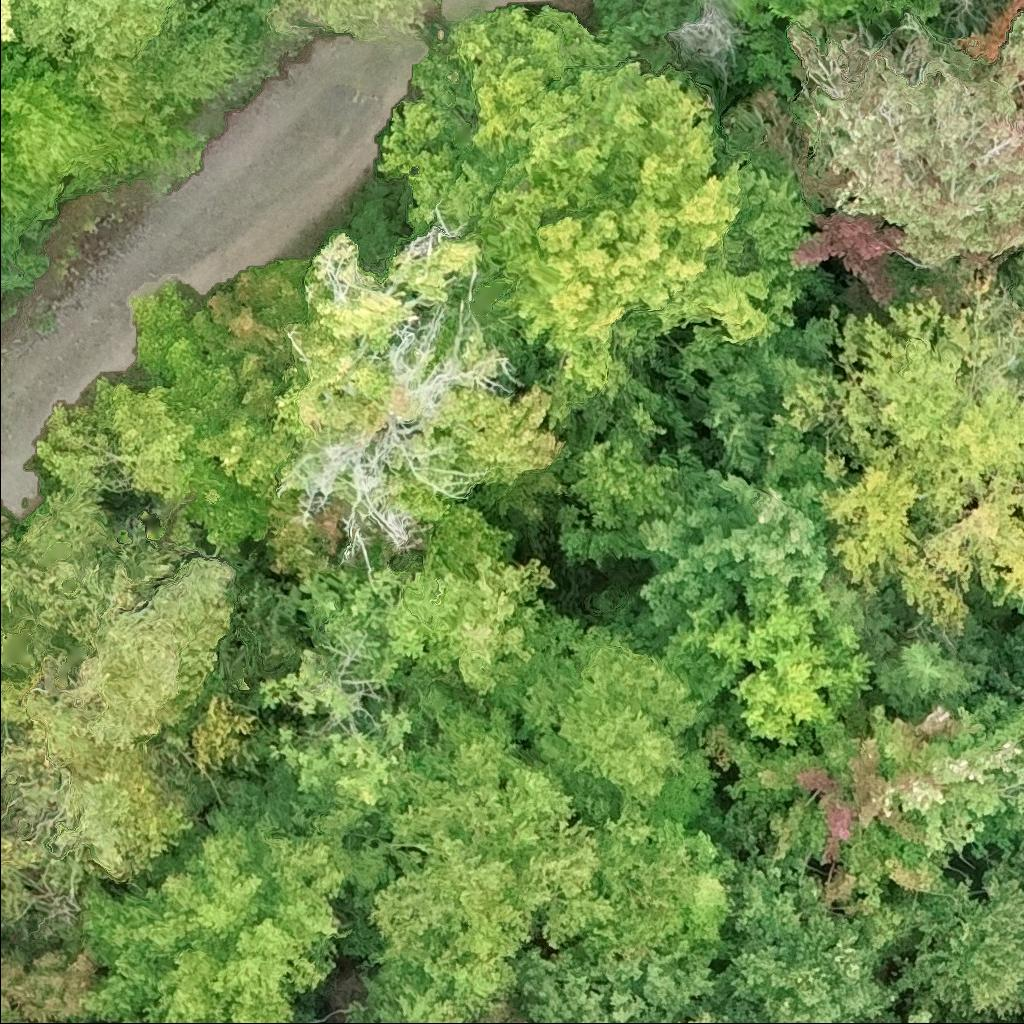crown: (377, 4, 796, 407), (347, 684, 617, 1023), (767, 285, 1023, 638), (73, 762, 399, 1023), (702, 699, 1023, 952), (793, 0, 1023, 318), (495, 588, 721, 825), (130, 259, 313, 551), (633, 442, 830, 638), (666, 585, 878, 750), (709, 852, 902, 1023), (0, 32, 145, 221), (383, 550, 558, 703), (893, 845, 1023, 1023), (427, 378, 570, 486), (11, 0, 189, 65), (871, 635, 992, 719), (0, 945, 97, 1023), (264, 0, 441, 36), (729, 0, 862, 23), (871, 995, 944, 1023), (477, 999, 536, 1023), (680, 1010, 784, 1023), (0, 0, 19, 59), (993, 1014, 1023, 1023), (423, 1022, 430, 1023), (983, 1023, 989, 1023)
